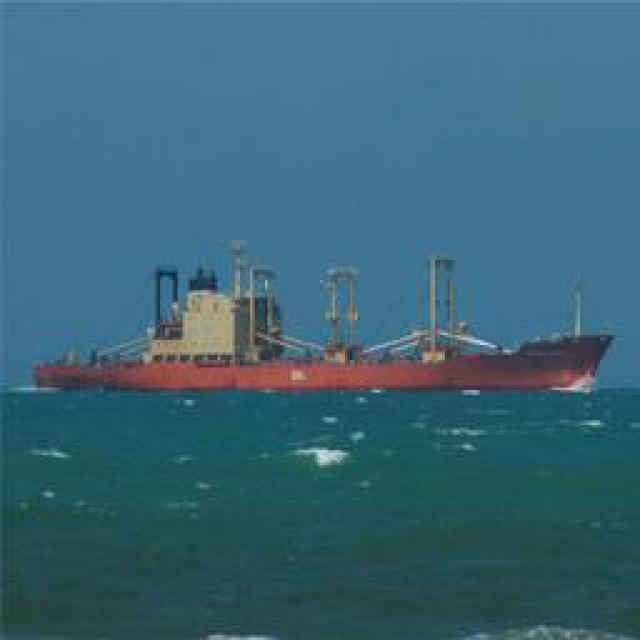Ship: (30, 250, 615, 403)
